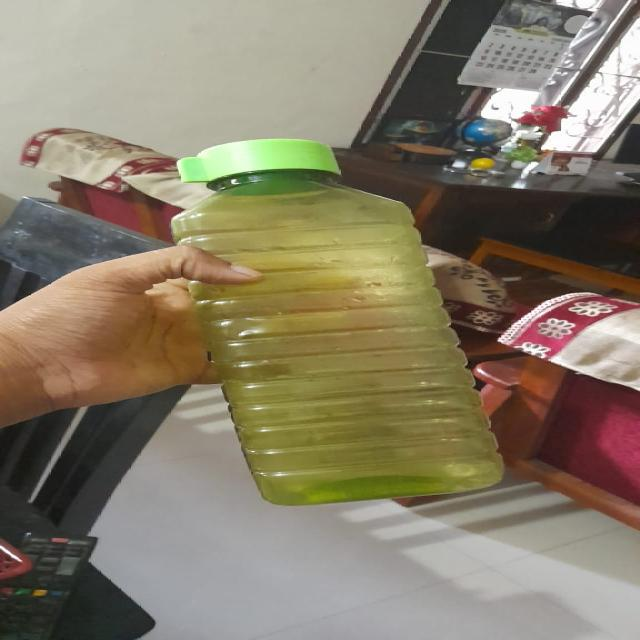Plastic - Recyclable: (167, 138, 508, 507)
